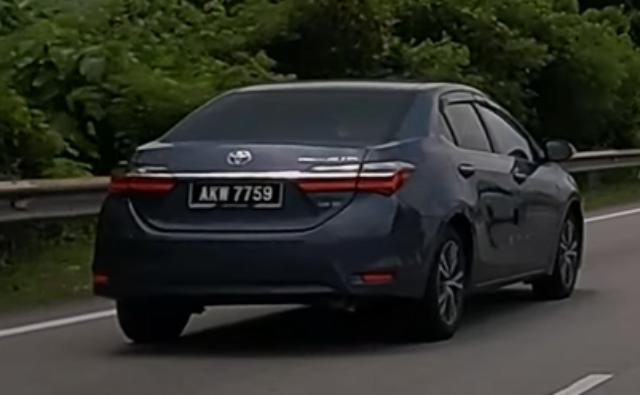License_Plate: (187, 179, 285, 212)
car: (91, 79, 587, 345)
